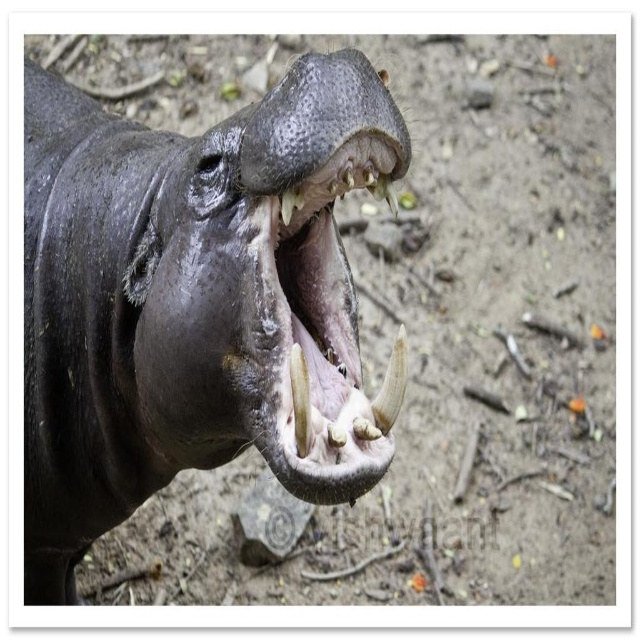Hippopotamus: (23, 37, 420, 607)
